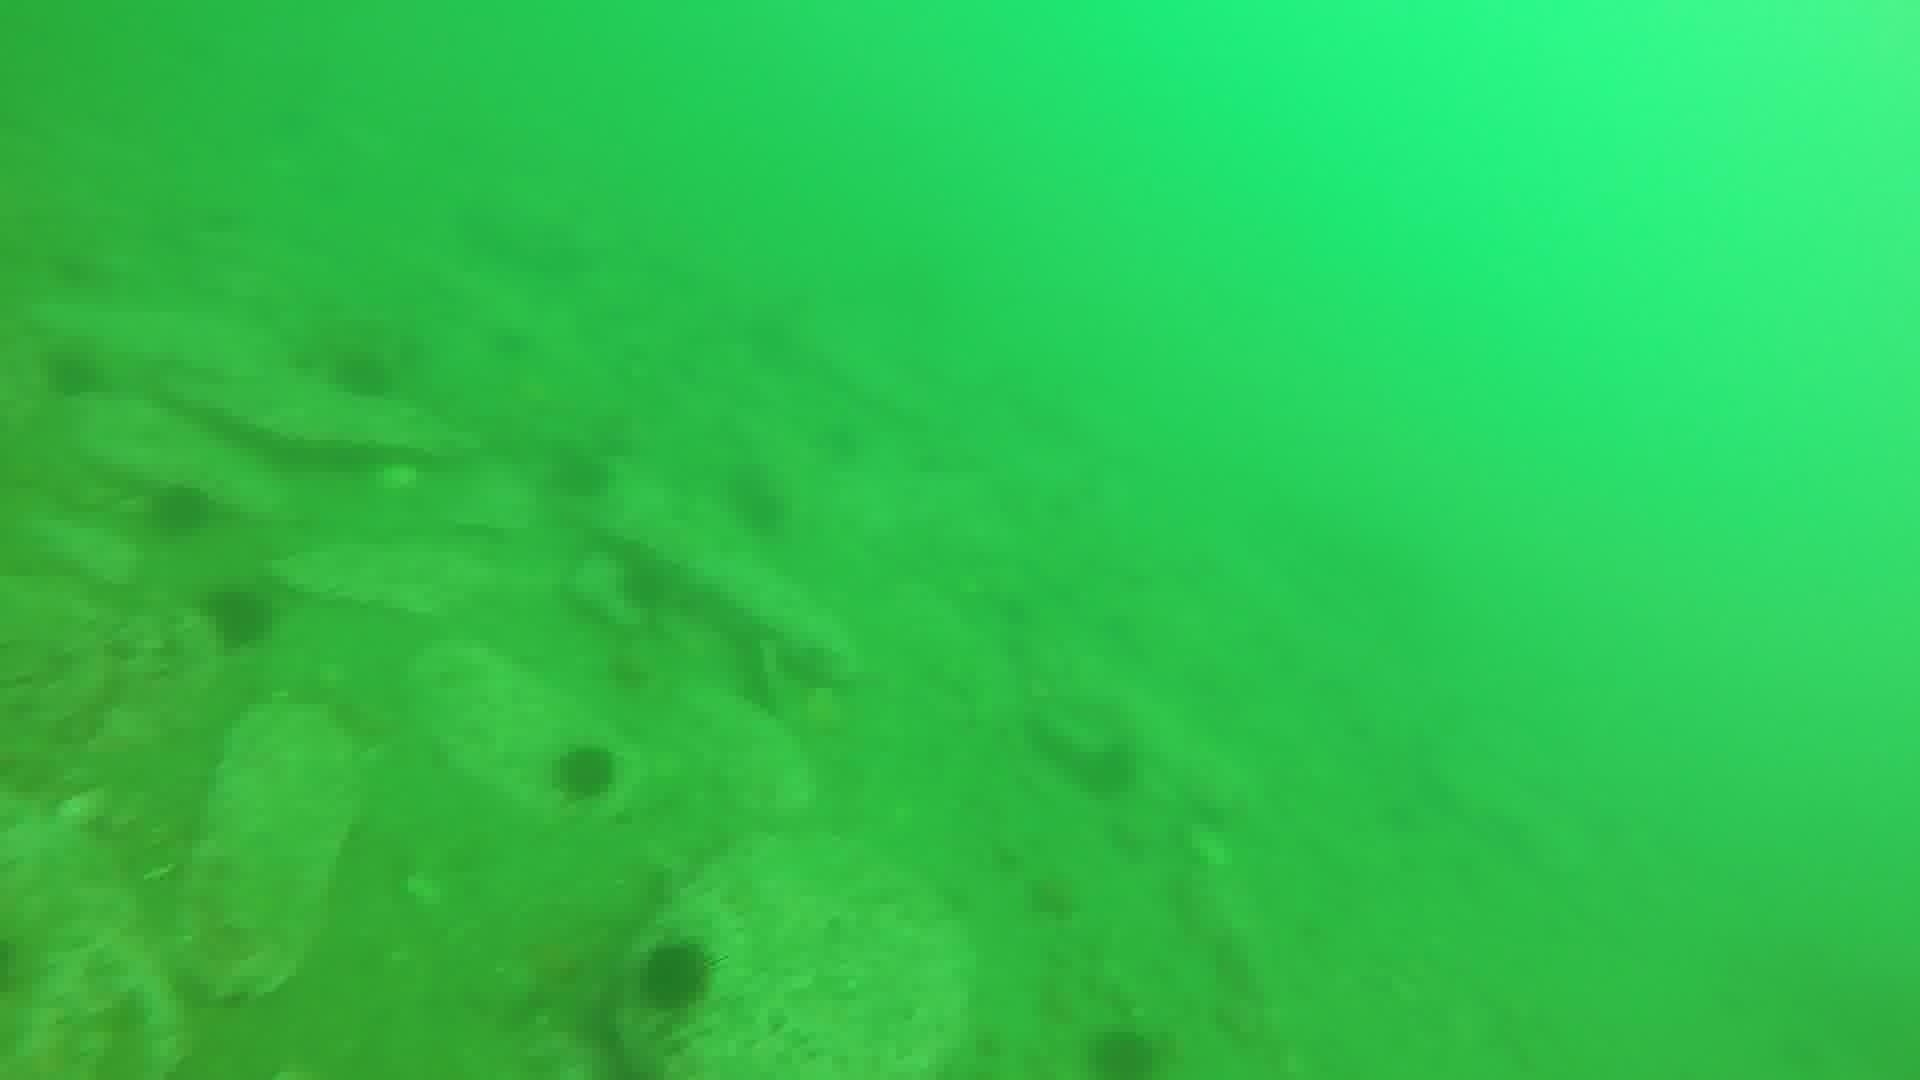echinus: (632, 934, 719, 1015), (198, 582, 280, 653), (720, 462, 794, 539), (546, 738, 624, 807), (141, 477, 219, 542), (1083, 1022, 1166, 1080), (1069, 738, 1143, 803), (542, 442, 617, 505), (324, 343, 400, 405), (37, 340, 109, 404)
